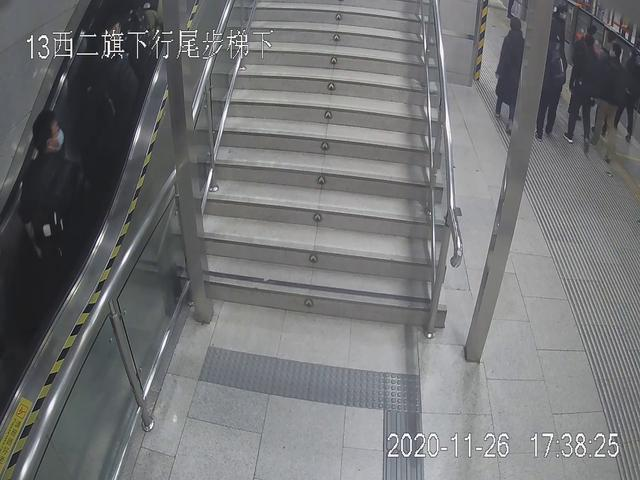person: (9, 107, 99, 282), (490, 15, 528, 132), (565, 30, 596, 160), (600, 43, 630, 160)
